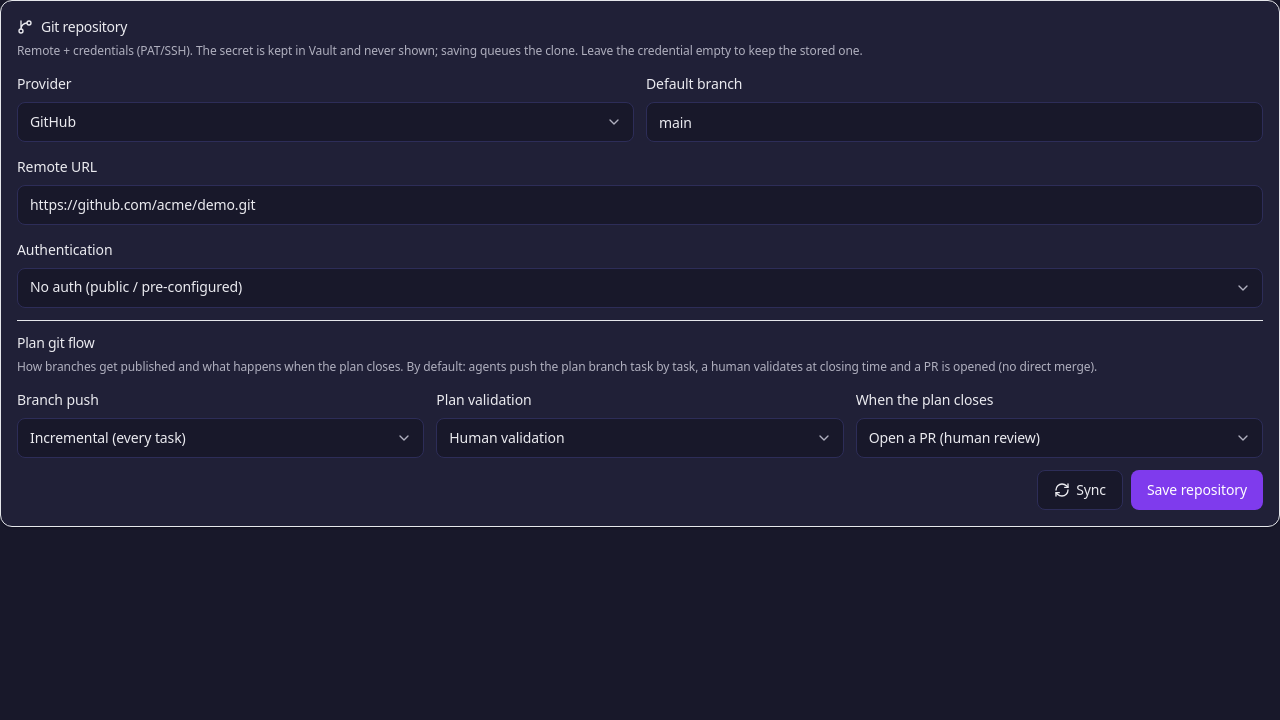
Test: git-config-section — lo que sólo se ve interactuando › los campos de PAT y de clave SSH —plegados por defecto— también se traducen
Select "PAT (HTTPS)" in the dropdown with test id "git-auth-mode" at (640, 288), box top-left (17, 268), bottom-right (1263, 308)
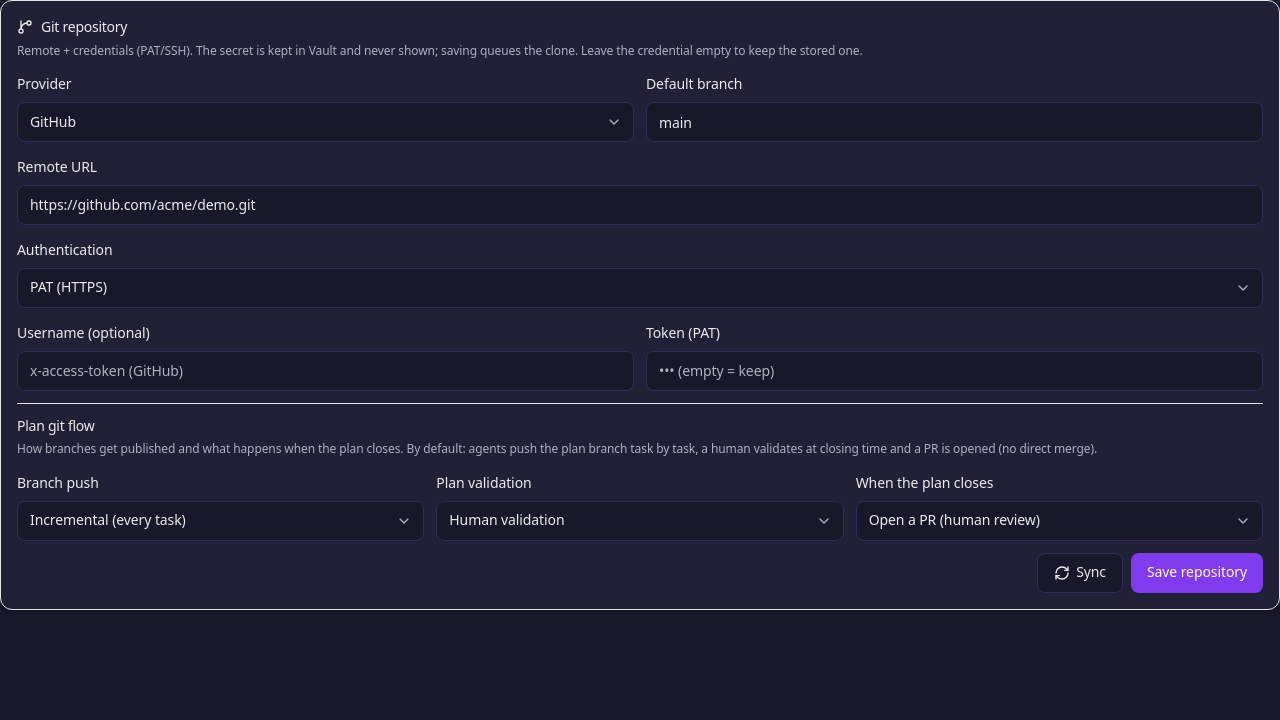
Check: the text "Username (optional)" is shown, box top-left (17, 323), bottom-right (150, 342)
Check: the text "Token (PAT)" is shown, box top-left (646, 323), bottom-right (720, 342)
Select "SSH key" in the dropdown with test id "git-auth-mode" at (640, 288), box top-left (17, 268), bottom-right (1263, 308)
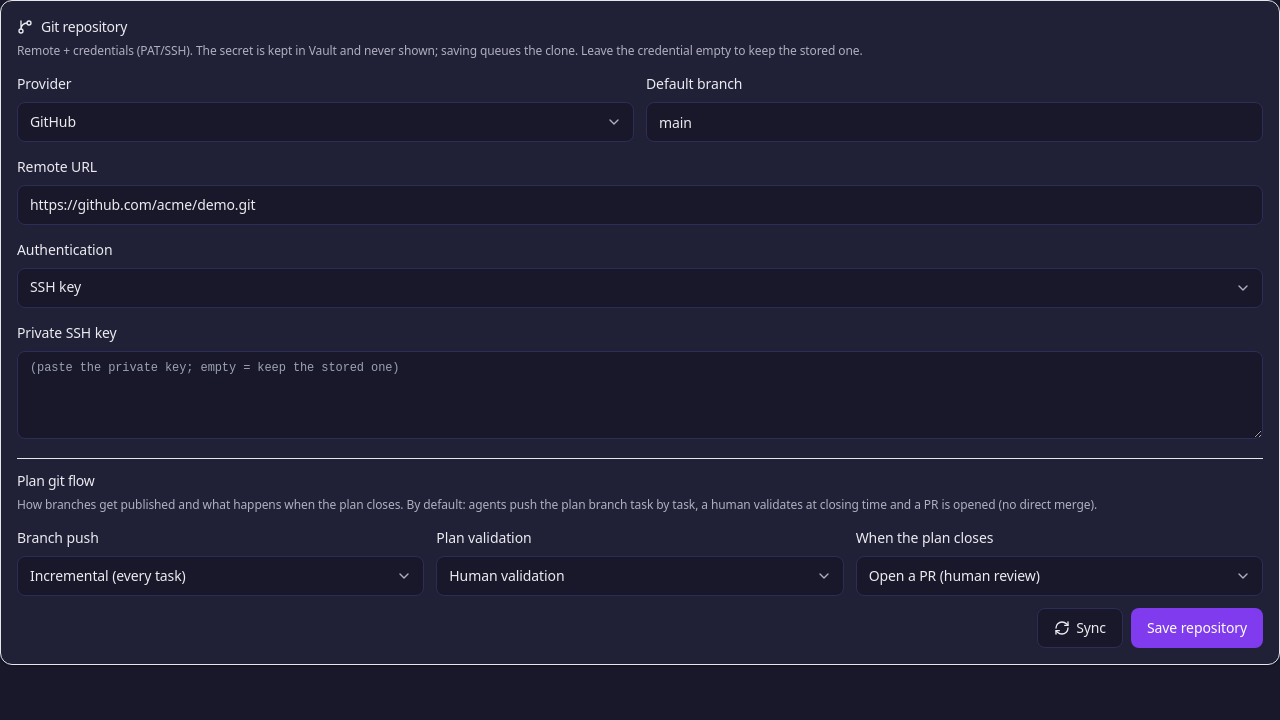
Check: the text "Private SSH key" is shown, box top-left (17, 323), bottom-right (117, 342)
